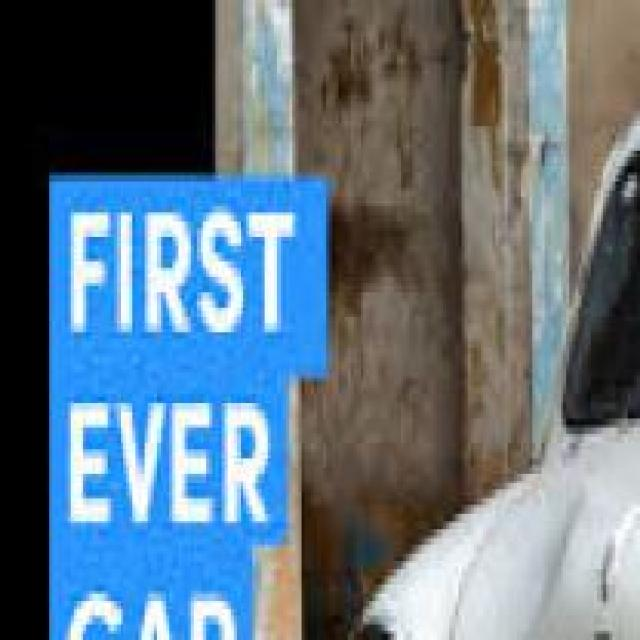car: (394, 46, 640, 640)
